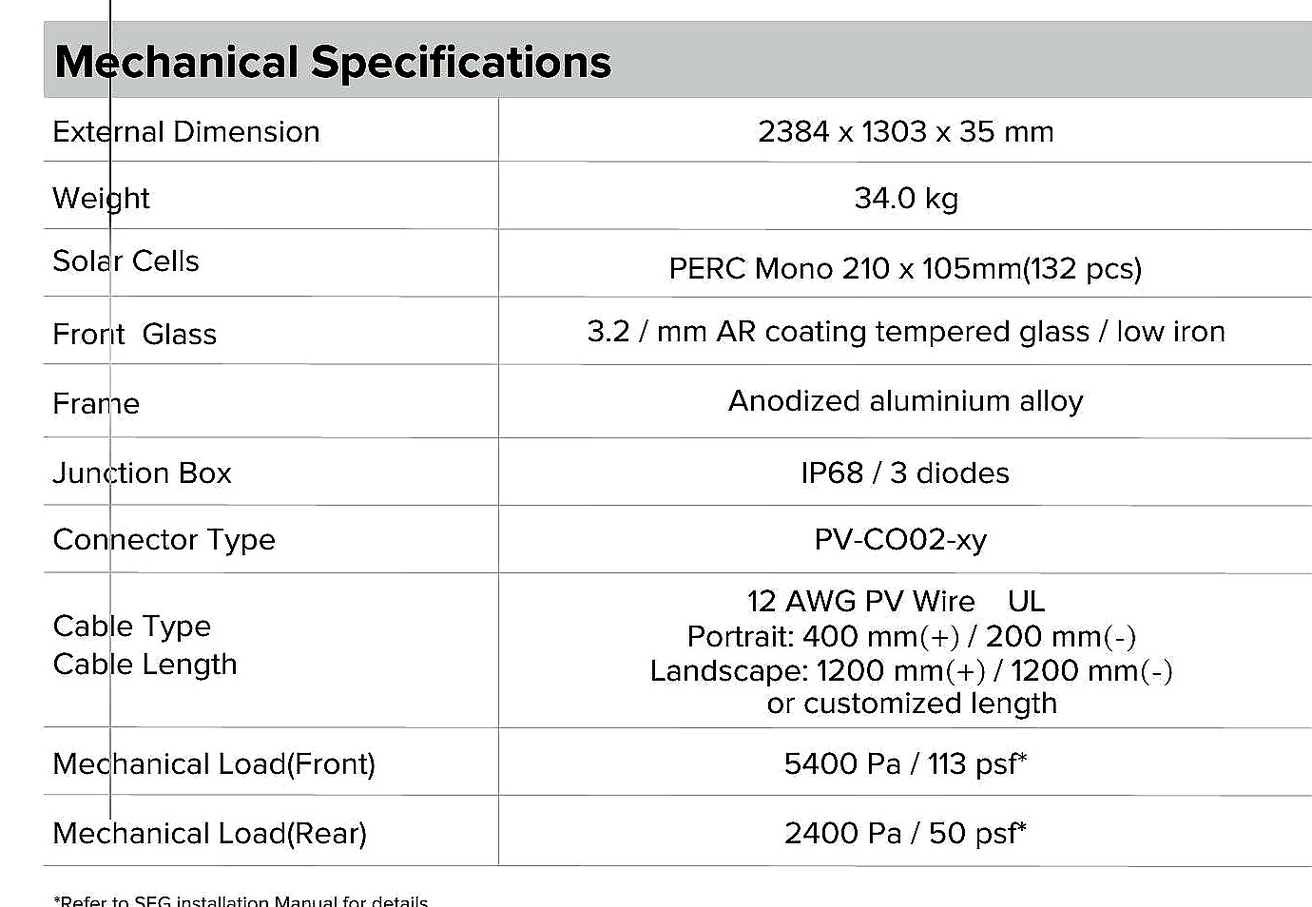table: (29, 17, 1312, 871)
table column: (503, 15, 1310, 863), (46, 20, 499, 865)
table name: (40, 20, 1308, 96)
table row: (33, 574, 1311, 725), (37, 21, 1307, 97), (34, 367, 1312, 436), (39, 100, 1309, 168), (33, 730, 1306, 797), (31, 800, 1310, 864), (36, 299, 1310, 362), (37, 232, 1312, 294), (34, 508, 1308, 570), (36, 441, 1309, 503), (37, 170, 1312, 226)
table row header: (43, 20, 501, 864)
table spanning cell: (39, 18, 1309, 104)
